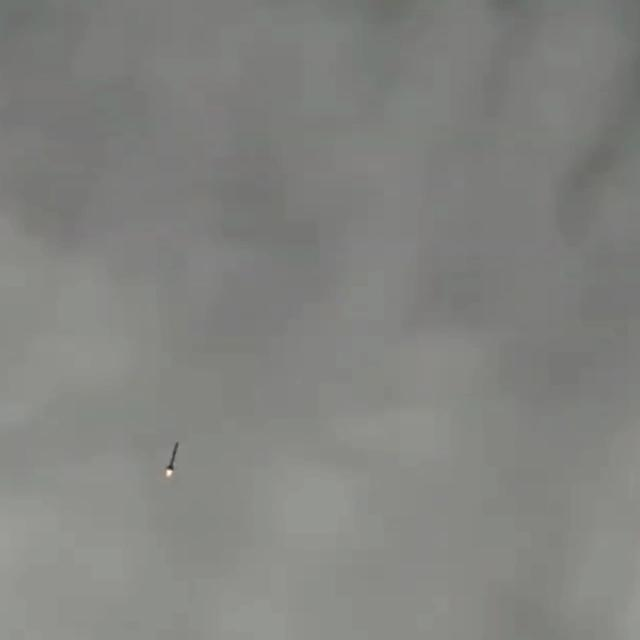rocket: (162, 443, 180, 479)
